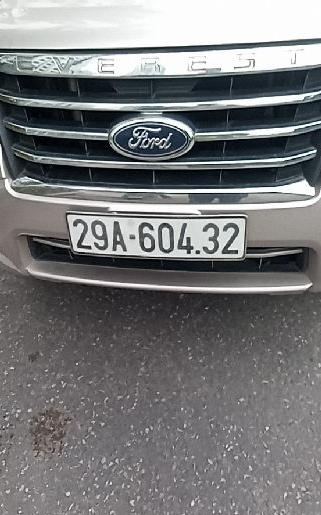Plate-iWeP: (64, 209, 250, 265)
